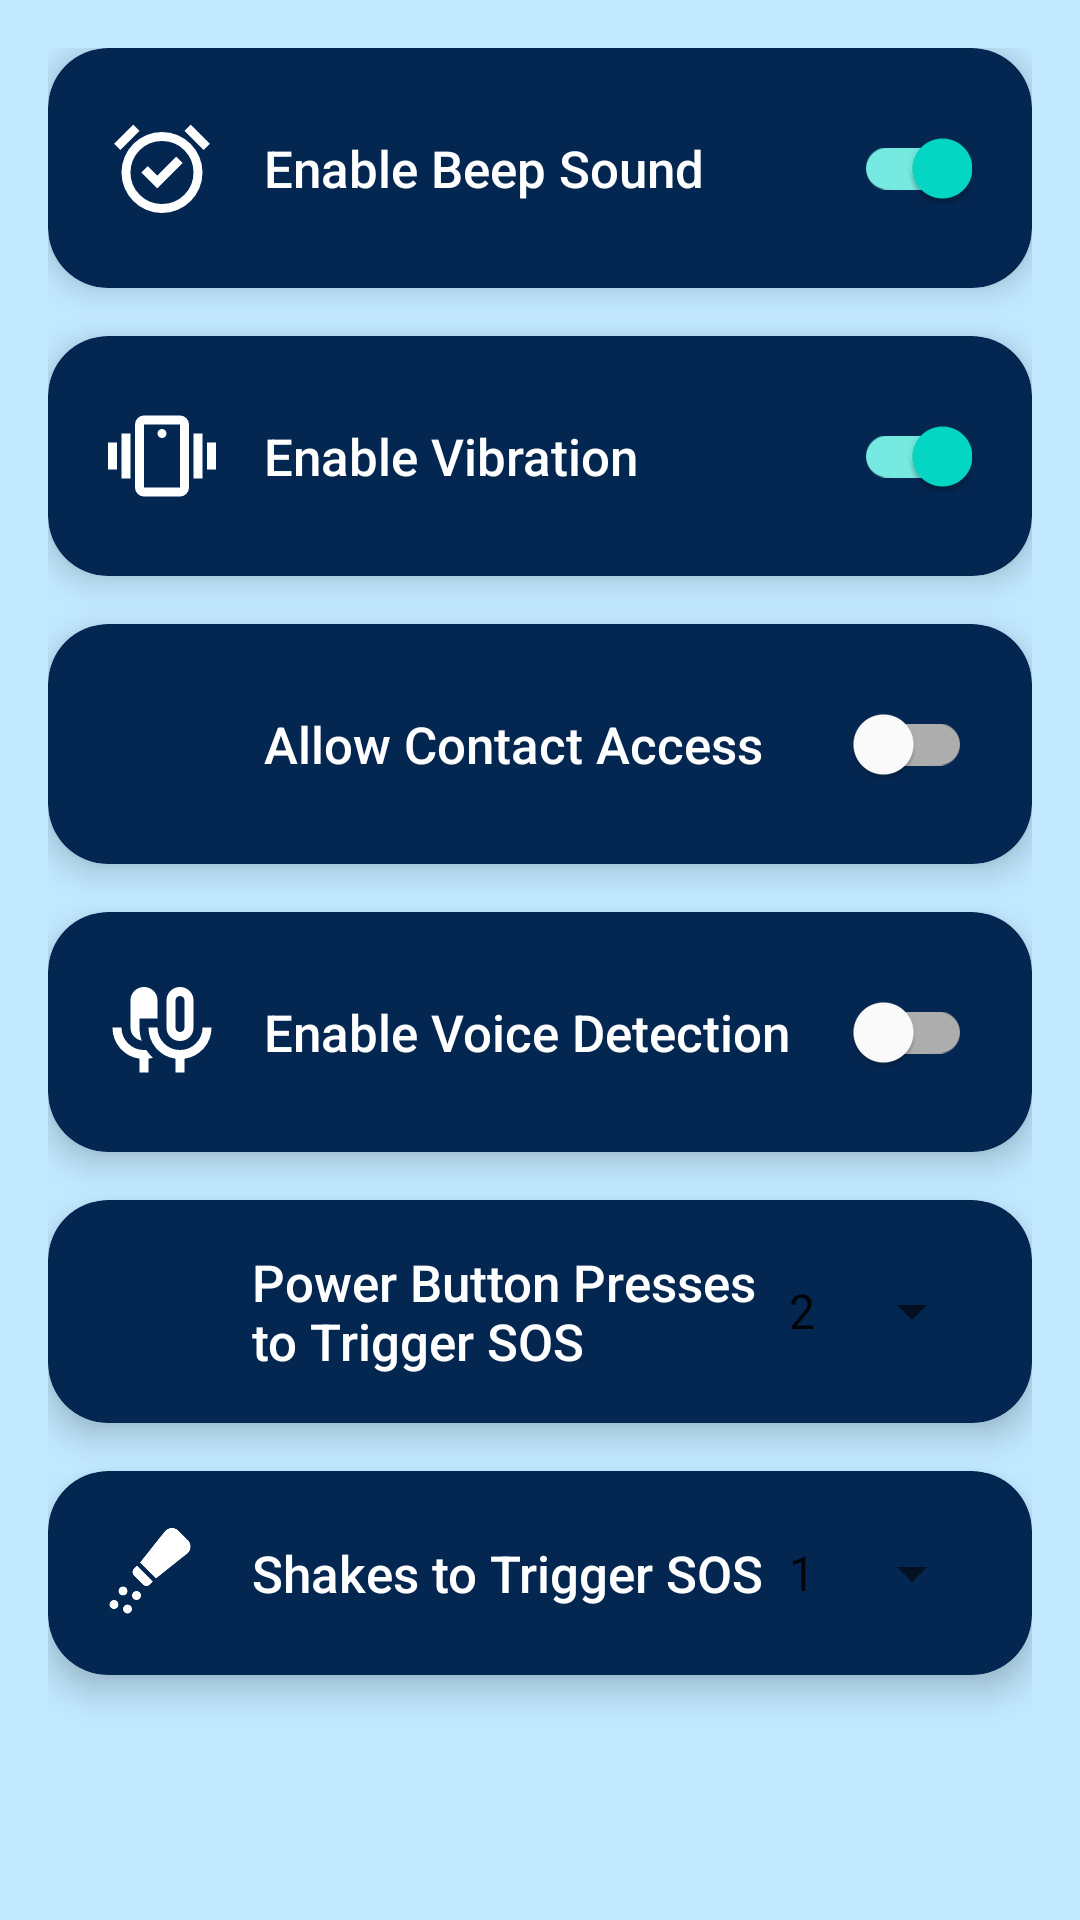

Named icons in this screenshot (1080 × 1920) and their centers, (x,y):
shaker: (150,1571)
